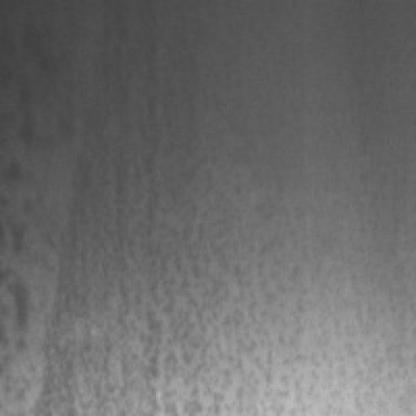pitted_surface: (37, 2, 310, 412)
